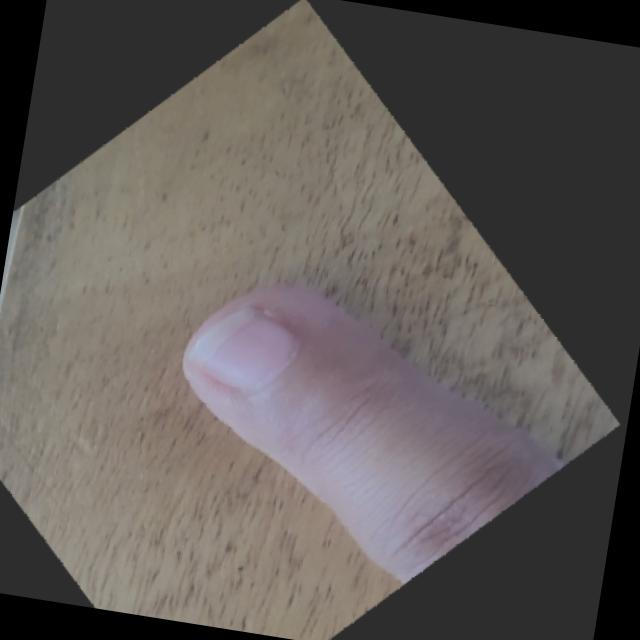Nail: (187, 305, 296, 392)
